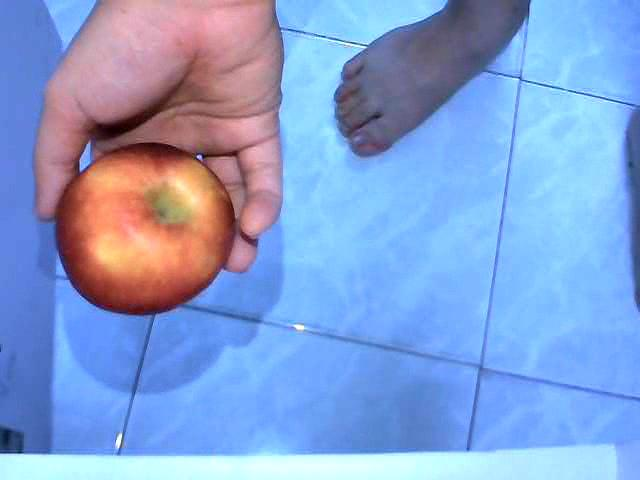apple: (53, 141, 236, 317)
